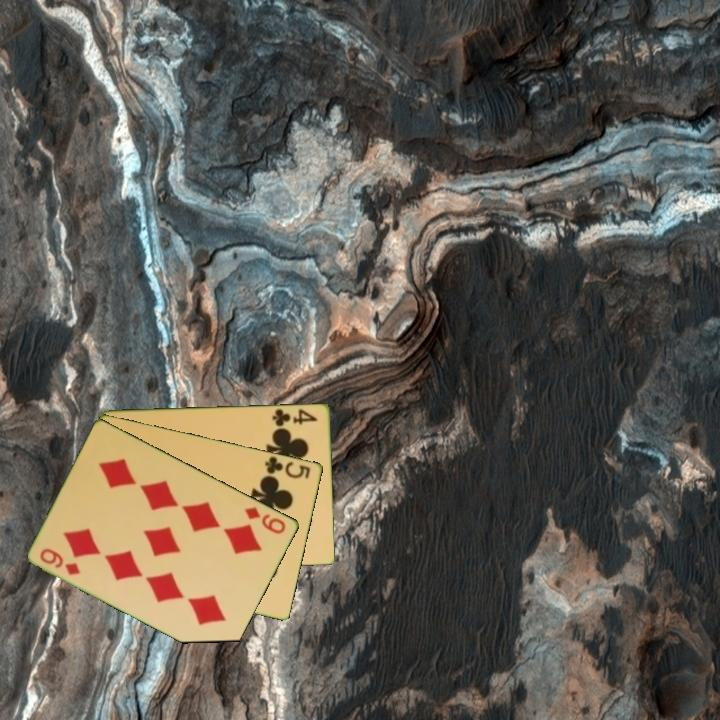4c: (269, 405, 321, 429)
5c: (261, 453, 314, 481)
9d: (241, 503, 289, 537), (37, 545, 84, 578)
